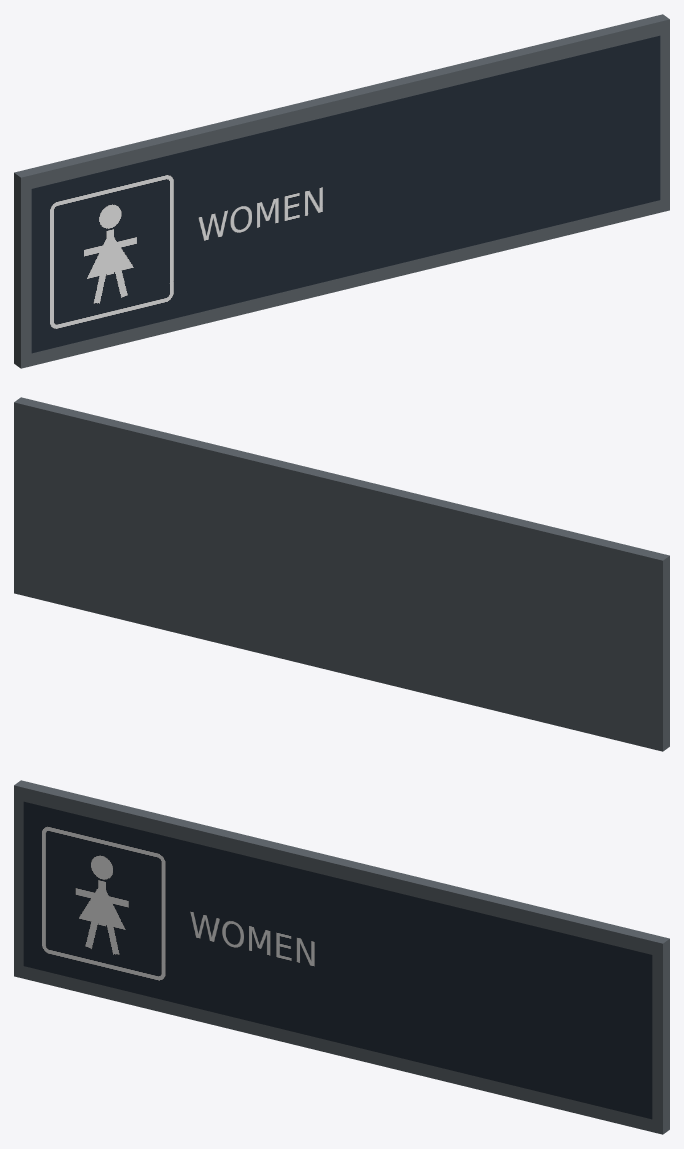
The model's file is 13_wall_toilet_female.glb.
The picture shows the model from 3 angles, top to bottom: view 1: azimuth 30°, elevation 25°; view 2: azimuth 150°, elevation 25°; view 3: azimuth 330°, elevation 25°; orthographic projection.
Parts seen in each view (by area): view 1: Sign_Face, Housing; view 2: Housing; view 3: Sign_Face, Housing.
Boxes of the visible parts, x1,y1,x2,y2 form: Sign_Face: [31, 35, 660, 353]; Housing: [14, 14, 669, 368]; Housing: [14, 397, 669, 751]; Sign_Face: [23, 801, 652, 1119]; Housing: [14, 780, 669, 1134].
Bounding box in the file's own units: 0.64 × 0.18 × 0.013.
Materials: 2 (1 with a texture image).
